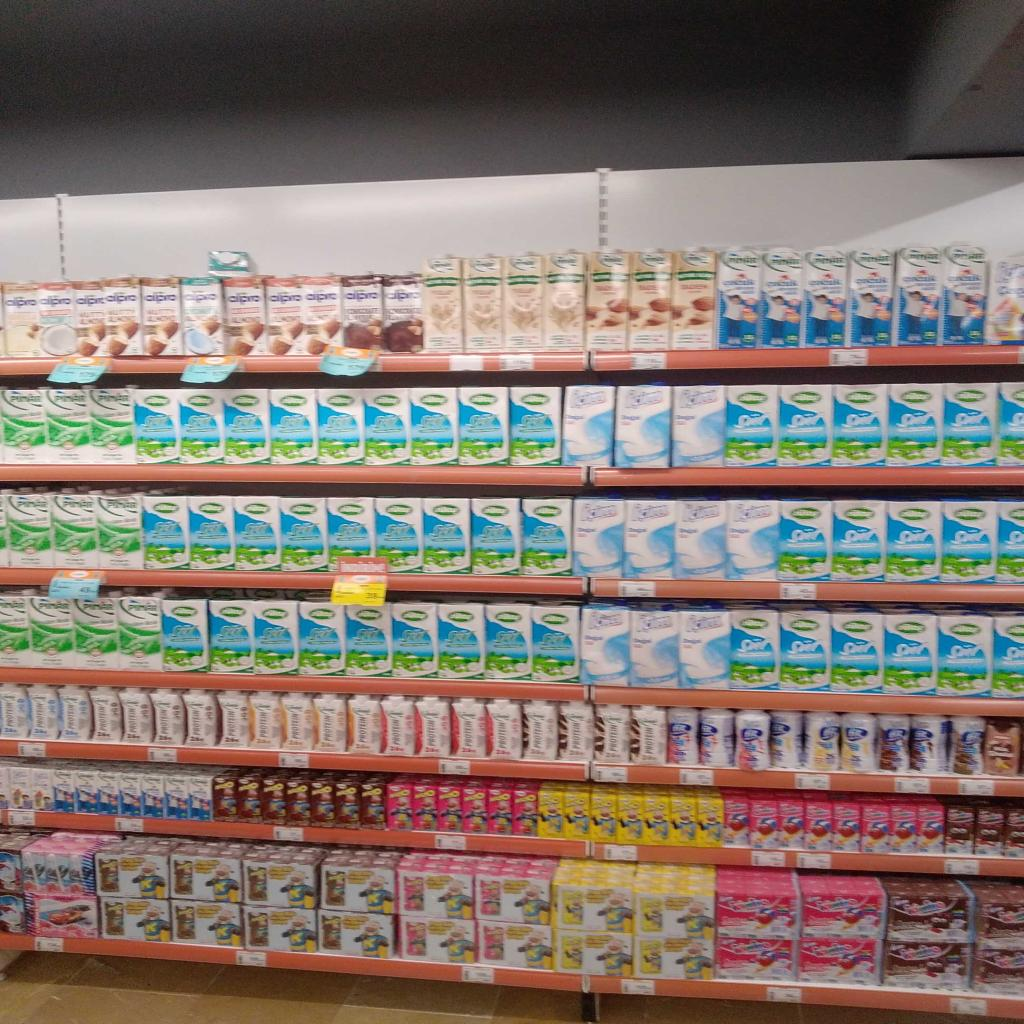price_tag: (331, 559, 388, 606), (320, 345, 377, 376), (48, 356, 111, 383), (48, 571, 104, 601), (182, 356, 241, 383), (950, 997, 988, 1016), (630, 352, 667, 370), (780, 582, 816, 600), (618, 580, 656, 597), (830, 349, 868, 366), (958, 779, 995, 796), (894, 777, 930, 794), (450, 354, 484, 372), (462, 965, 494, 984), (795, 773, 830, 790), (592, 765, 627, 782), (499, 353, 533, 370), (944, 859, 980, 875), (604, 844, 637, 861), (767, 987, 802, 1003), (797, 853, 831, 869), (621, 979, 655, 995), (680, 769, 714, 785), (752, 851, 785, 867), (439, 759, 470, 775), (436, 834, 467, 850), (236, 951, 267, 966), (279, 753, 309, 768), (34, 937, 64, 952), (115, 818, 144, 833), (18, 742, 46, 757), (7, 811, 35, 826), (273, 827, 303, 841), (148, 748, 177, 762), (1018, 346, 1023, 363)
product: (396, 853, 497, 920), (716, 867, 802, 940), (553, 859, 635, 935), (883, 876, 973, 944), (798, 875, 885, 940), (634, 872, 714, 940), (475, 860, 557, 926), (243, 847, 323, 912), (320, 851, 400, 915), (97, 837, 175, 901), (23, 834, 102, 896), (940, 243, 988, 345), (615, 384, 671, 468), (941, 383, 997, 467), (671, 248, 717, 350), (585, 251, 632, 350), (940, 500, 996, 583), (937, 614, 992, 698), (831, 384, 887, 466), (886, 384, 942, 466), (830, 609, 883, 695), (802, 247, 847, 347), (883, 612, 937, 695), (716, 249, 761, 348), (894, 247, 939, 346), (777, 500, 832, 581), (831, 500, 886, 581), (171, 843, 244, 904), (628, 250, 672, 350), (778, 385, 832, 466), (886, 501, 940, 582), (883, 941, 972, 990), (562, 385, 615, 467), (672, 385, 725, 467), (725, 499, 779, 579), (579, 603, 631, 686), (849, 248, 893, 346), (725, 384, 777, 466), (780, 608, 830, 693), (678, 609, 731, 689), (543, 252, 586, 350), (3, 491, 57, 569), (760, 248, 802, 348), (510, 386, 561, 466), (84, 386, 136, 464), (624, 500, 676, 578), (573, 498, 624, 577), (730, 608, 779, 690), (675, 499, 725, 579), (629, 610, 680, 688), (503, 254, 544, 351), (0, 388, 52, 464), (42, 388, 94, 464), (459, 386, 509, 465), (797, 937, 881, 984), (521, 499, 572, 576), (422, 257, 463, 351), (471, 498, 521, 575), (529, 606, 579, 683), (318, 909, 393, 960), (50, 491, 99, 569), (399, 915, 477, 964), (464, 256, 504, 351), (255, 276, 303, 355), (317, 388, 365, 465), (478, 922, 553, 971), (280, 498, 330, 571), (222, 388, 270, 464), (375, 497, 423, 573), (557, 930, 633, 978), (633, 936, 714, 981), (714, 937, 795, 982), (410, 388, 457, 465), (94, 494, 142, 569), (142, 495, 190, 570), (423, 499, 471, 574), (270, 388, 317, 464), (392, 602, 439, 678), (161, 599, 209, 673), (364, 388, 410, 465), (343, 604, 392, 676), (115, 596, 162, 671), (224, 276, 268, 356), (171, 900, 244, 948), (243, 905, 317, 952), (134, 389, 180, 464), (485, 604, 531, 679), (181, 276, 224, 356), (188, 497, 235, 570), (26, 597, 74, 668), (438, 604, 484, 678), (970, 884, 1023, 948), (179, 389, 224, 464), (234, 497, 280, 570), (209, 600, 254, 674), (986, 254, 1023, 343), (299, 602, 344, 675), (101, 897, 172, 943), (253, 600, 297, 674), (73, 598, 118, 670), (142, 277, 183, 356), (327, 498, 375, 565), (26, 894, 99, 938), (103, 277, 143, 357), (301, 275, 341, 355), (343, 274, 383, 352), (383, 274, 422, 353), (36, 281, 76, 357), (3, 282, 42, 358), (971, 940, 1023, 994), (992, 614, 1023, 699), (73, 280, 106, 356), (910, 715, 950, 773), (996, 499, 1023, 584), (0, 595, 31, 666), (997, 382, 1023, 466), (595, 704, 632, 763), (840, 713, 877, 772), (452, 698, 488, 758), (804, 712, 841, 770), (0, 833, 35, 894), (381, 695, 416, 756), (415, 696, 450, 757), (523, 700, 559, 759), (487, 699, 522, 759), (951, 716, 986, 776), (115, 688, 153, 743), (736, 710, 770, 771), (183, 690, 219, 747), (348, 695, 382, 755), (699, 709, 734, 767), (984, 720, 1020, 776), (312, 694, 346, 753), (633, 706, 667, 765), (560, 702, 594, 760), (151, 689, 185, 745), (249, 692, 282, 749), (770, 711, 803, 768), (281, 693, 313, 751), (667, 707, 699, 765), (641, 787, 673, 845), (216, 691, 249, 747), (60, 685, 92, 741), (28, 685, 60, 740), (91, 687, 123, 742), (614, 787, 644, 844), (879, 715, 909, 771), (669, 789, 698, 846), (750, 794, 779, 850), (590, 784, 618, 841), (0, 684, 29, 739), (860, 800, 890, 853), (974, 804, 1005, 855), (537, 782, 565, 838), (802, 799, 832, 851), (833, 797, 861, 852), (915, 800, 944, 853), (889, 800, 918, 853), (563, 784, 590, 840), (723, 791, 750, 847), (945, 801, 974, 853), (386, 780, 416, 830), (698, 790, 723, 848), (486, 781, 513, 834), (778, 794, 804, 849), (513, 781, 538, 837), (262, 773, 289, 824), (436, 782, 463, 833), (462, 782, 488, 834), (213, 771, 240, 821), (334, 777, 360, 828), (411, 779, 436, 831), (285, 776, 311, 825), (164, 773, 191, 820), (361, 779, 386, 829), (189, 772, 213, 821), (311, 777, 335, 826), (237, 774, 261, 822), (141, 772, 165, 819), (119, 772, 144, 817), (51, 766, 75, 812), (10, 764, 34, 809), (75, 769, 100, 812), (1003, 807, 1023, 858), (0, 894, 25, 934), (31, 768, 54, 811), (97, 771, 119, 814), (0, 762, 10, 810), (690, 311, 691, 312), (604, 799, 607, 799), (692, 808, 694, 808)
